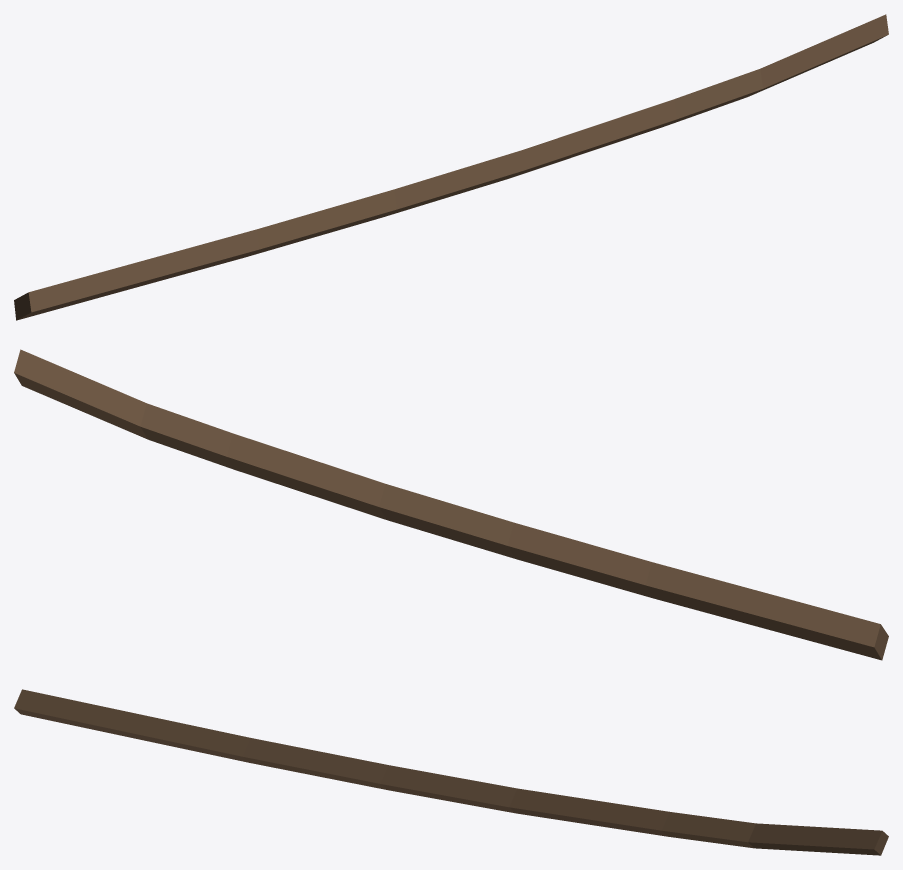
The model's file is Cave_Lair_Rope_Short_01.fbx.
The picture shows the model from 3 angles, top to bottom: view 1: azimuth 30°, elevation 25°; view 2: azimuth 150°, elevation 25°; view 3: azimuth 330°, elevation 25°; orthographic projection.
Visible parts, largest first — view 1: Cave_Lair_Rope_Short_01; view 2: Cave_Lair_Rope_Short_01; view 3: Cave_Lair_Rope_Short_01.
Part boxes in pixels (x1,y1,x2,y2): Cave_Lair_Rope_Short_01: (14,14,888,320); Cave_Lair_Rope_Short_01: (14,349,888,660); Cave_Lair_Rope_Short_01: (14,689,888,855).
Bounding box in the file's own units: 3.73 × 0.4014 × 0.1341.
